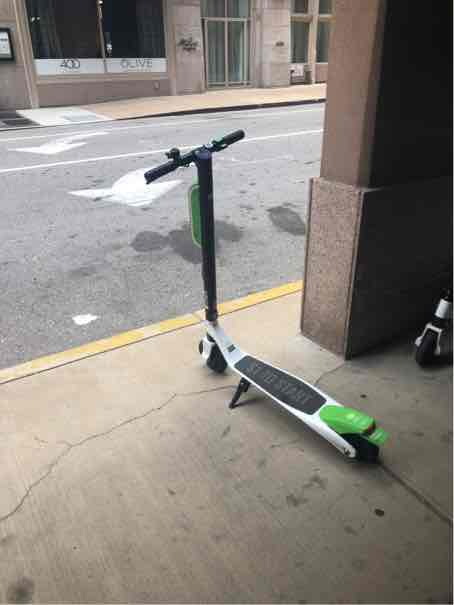scooter: (124, 98, 404, 486)
